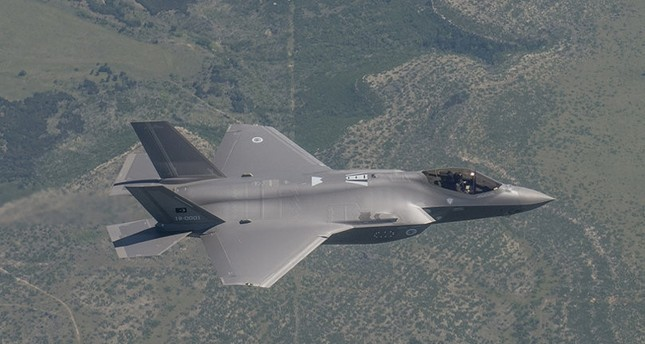F-35 Lightning: (51, 93, 579, 293)
